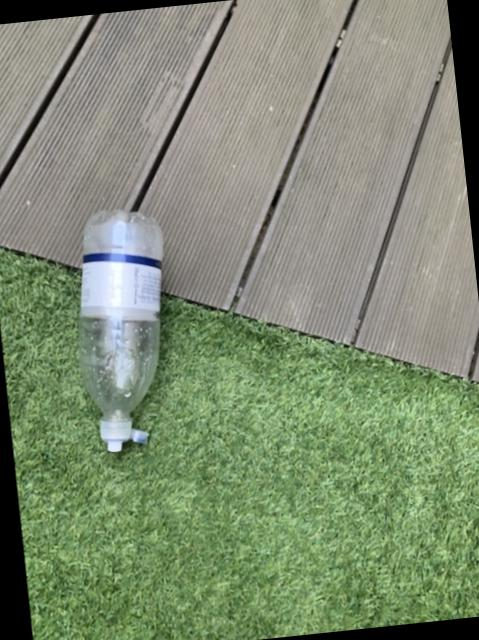plastic: (77, 208, 160, 449)
